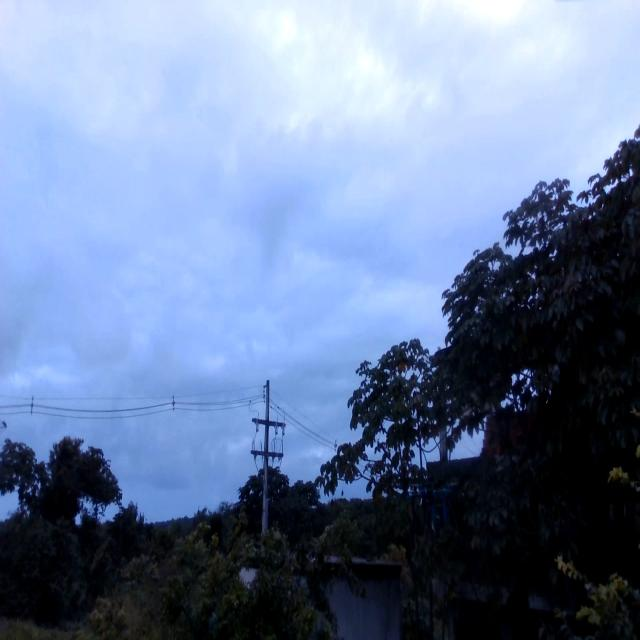-uav-: (395, 468, 472, 542)
